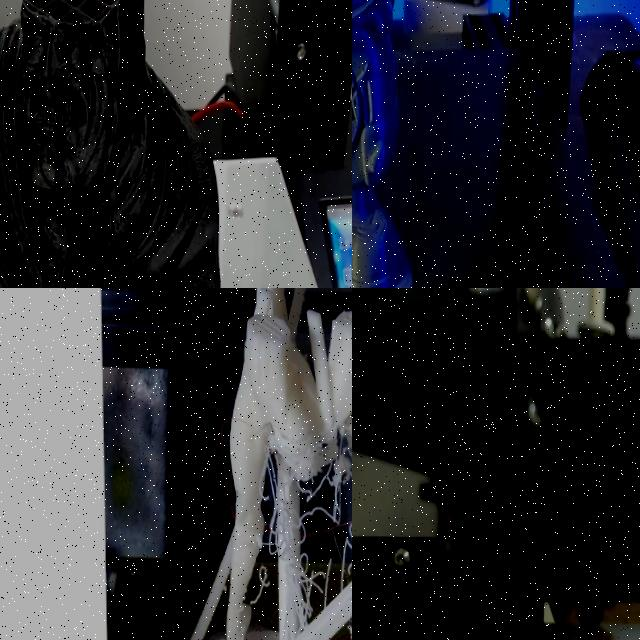spaghetti: (220, 419, 352, 640), (282, 473, 352, 618), (256, 411, 288, 568), (332, 403, 352, 478), (553, 621, 621, 640)
